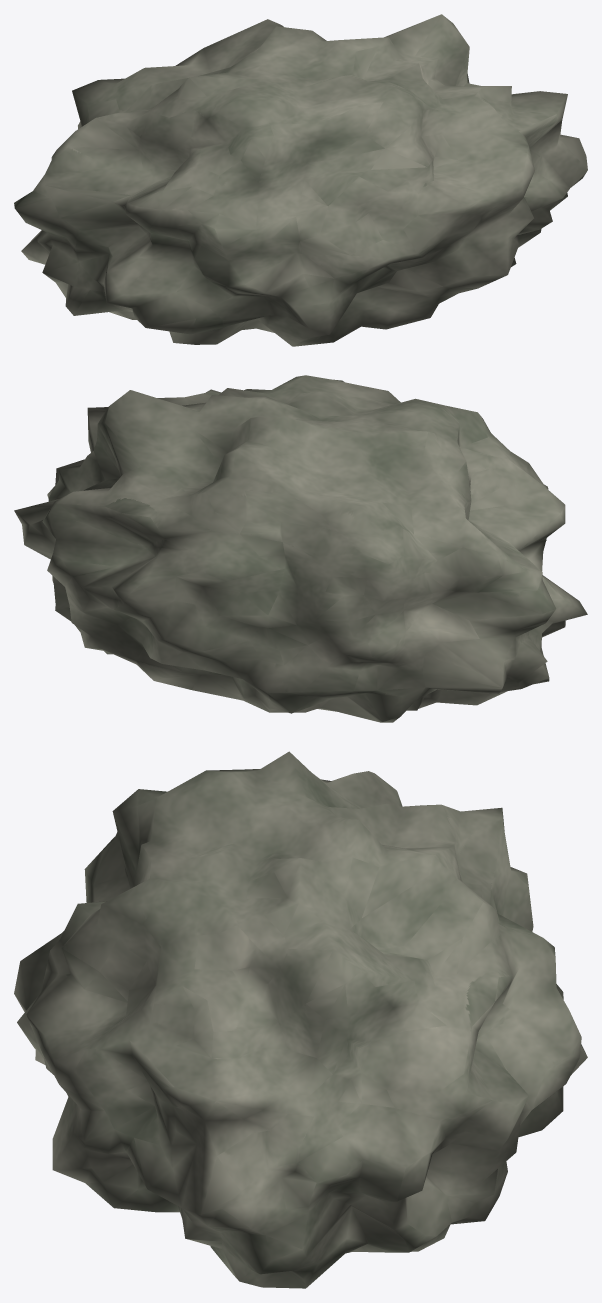
The model's file is reef_rock_lod1.glb.
3 renders of one model, top to bottom at view 1: azimuth 30°, elevation 25°; view 2: azimuth 150°, elevation 25°; view 3: azimuth 270°, elevation 25°, orthographic. The views are drawn at different scales.
Visible parts, largest first — view 1: reef_rock_LOD1; view 2: reef_rock_LOD1; view 3: reef_rock_LOD1.
Boxes of the visible parts, x1,y1,x2,y2 form: reef_rock_LOD1: [14, 14, 587, 346]; reef_rock_LOD1: [14, 375, 587, 722]; reef_rock_LOD1: [14, 751, 587, 1288].
Bounding box in the file's own units: 2.02 × 0.8926 × 1.39.
1 material, 1 textured.
